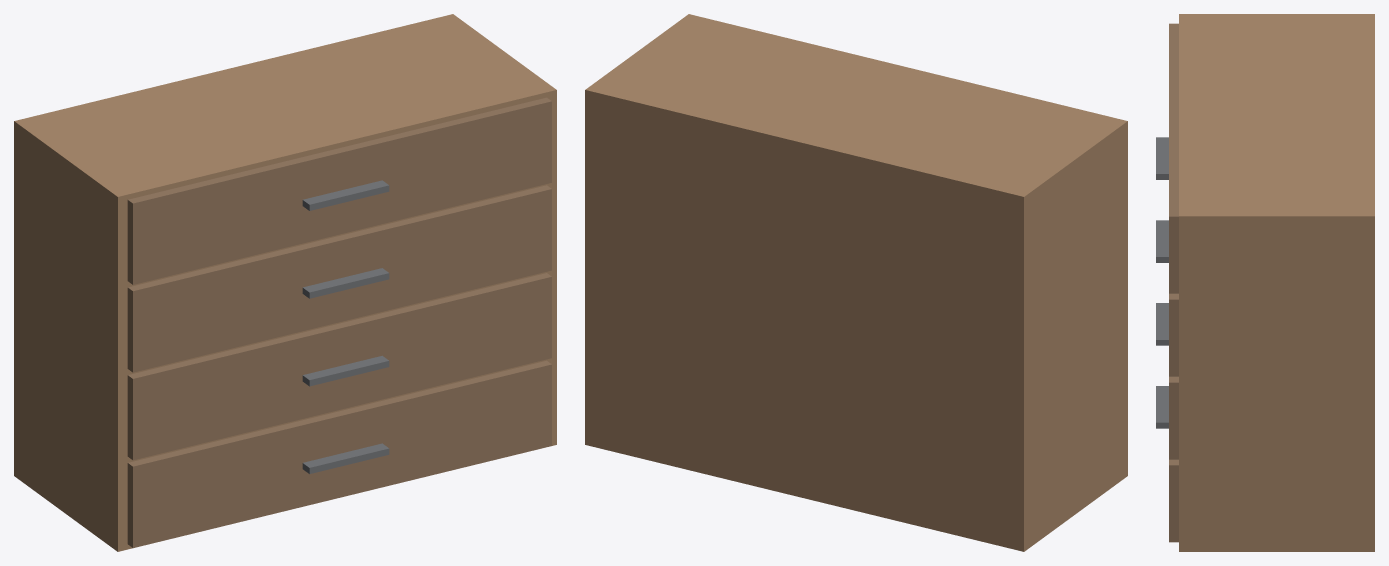
Rendered from dresser.glb.
The picture shows the model from 3 angles, left to right: view 1: azimuth 30°, elevation 25°; view 2: azimuth 150°, elevation 25°; view 3: azimuth 270°, elevation 25°; orthographic projection. The views are drawn at different scales.
Visible parts, largest first — view 1: Case, Drawer_2, Drawer_3, Drawer_1, Drawer_0, Handle_3, Handle_0, Handle_1, Handle_2; view 2: Case; view 3: Case, Drawer_3, Drawer_0, Drawer_1, Drawer_2, Handle_0, Handle_1, Handle_2, Handle_3.
Boxes of the visible parts, x1=… form: Case: x1=14, y1=14, x2=556, y2=551; Drawer_2: x1=127, y1=185, x2=551, y2=372; Drawer_3: x1=127, y1=97, x2=551, y2=284; Drawer_1: x1=127, y1=273, x2=551, y2=460; Drawer_0: x1=127, y1=360, x2=551, y2=547; Handle_3: x1=302, y1=180, x2=389, y2=210; Handle_0: x1=302, y1=443, x2=389, y2=473; Handle_1: x1=302, y1=355, x2=389, y2=386; Handle_2: x1=302, y1=268, x2=389, y2=298; Case: x1=585, y1=14, x2=1127, y2=551; Case: x1=1179, y1=14, x2=1374, y2=551; Drawer_3: x1=1169, y1=23, x2=1178, y2=293; Drawer_0: x1=1169, y1=459, x2=1178, y2=542; Drawer_1: x1=1169, y1=376, x2=1178, y2=459; Drawer_2: x1=1169, y1=293, x2=1178, y2=376; Handle_0: x1=1156, y1=386, x2=1168, y2=428; Handle_1: x1=1156, y1=303, x2=1168, y2=345; Handle_2: x1=1156, y1=220, x2=1168, y2=262; Handle_3: x1=1156, y1=137, x2=1168, y2=179.
Bounding box in the file's own units: 1.1 × 0.85 × 0.5025.
